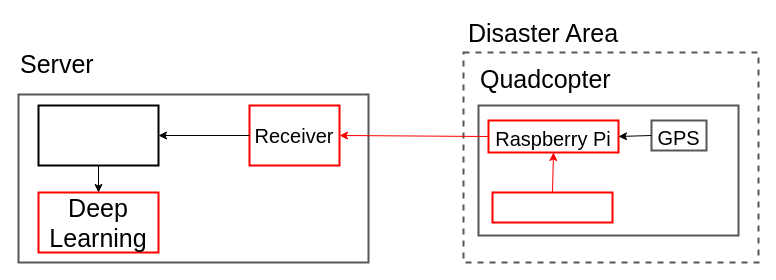
Image size: 776x280. Some labels were removed from this diagram. Here are the shapes that lost their labels. From the top down, the centre of each, then its label:
the point at 98,135: Stitching & GPS
the point at 552,207: Camera
